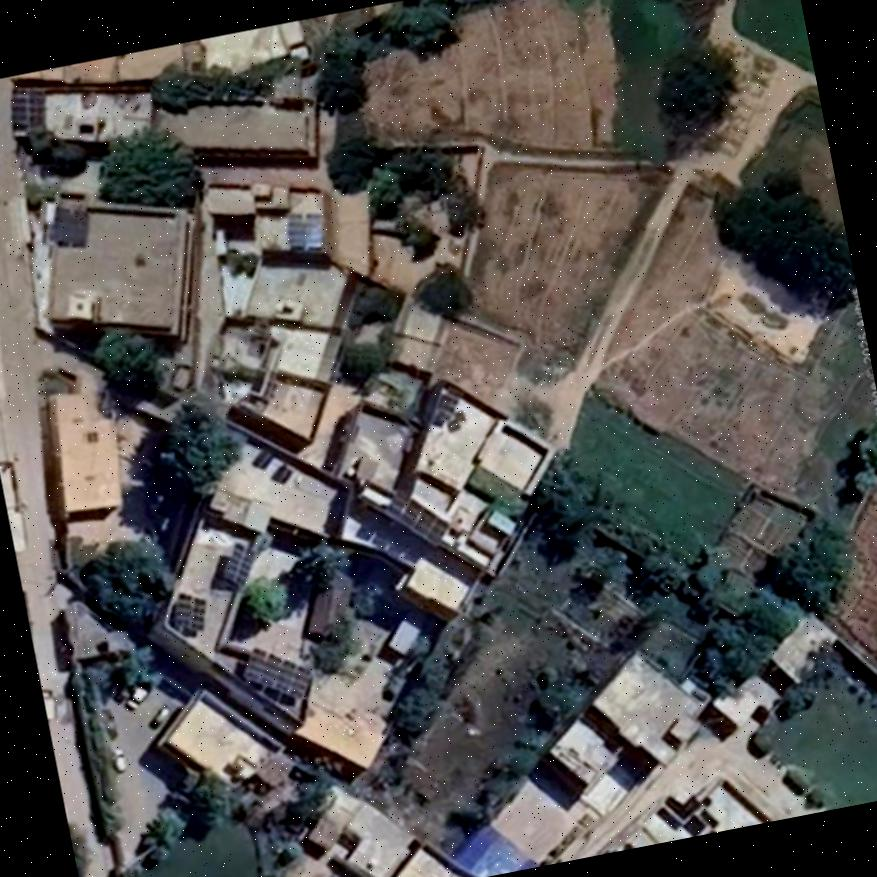Solarpanel: (241, 650, 310, 699), (11, 84, 44, 128), (223, 541, 255, 586), (174, 591, 204, 630)
